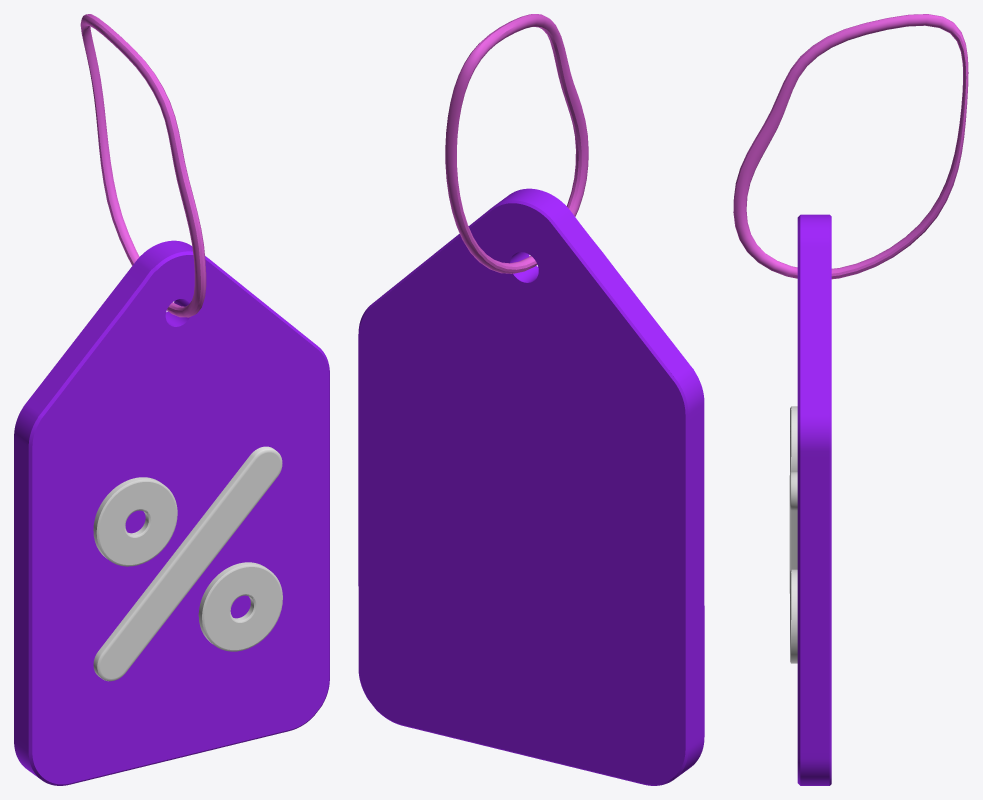
File: discount.glb
3 views of the same model, side by side, from view 1: azimuth 30°, elevation 25°; view 2: azimuth 150°, elevation 25°; view 3: azimuth 270°, elevation 25° (orthographic). The views are drawn at different scales.
Parts seen in each view (by area): view 1: Curve.004, Curve.007; view 2: Curve.004; view 3: Curve.004, Curve.007.
Boxes of the visible parts, <box> form: Curve.004: <box>14,14,329,785</box>; Curve.007: <box>93,446,282,681</box>; Curve.004: <box>358,14,704,785</box>; Curve.004: <box>733,14,968,785</box>; Curve.007: <box>789,406,797,663</box>.
Size of the model in its own units: 12.48 by 27.66 by 8.38.
